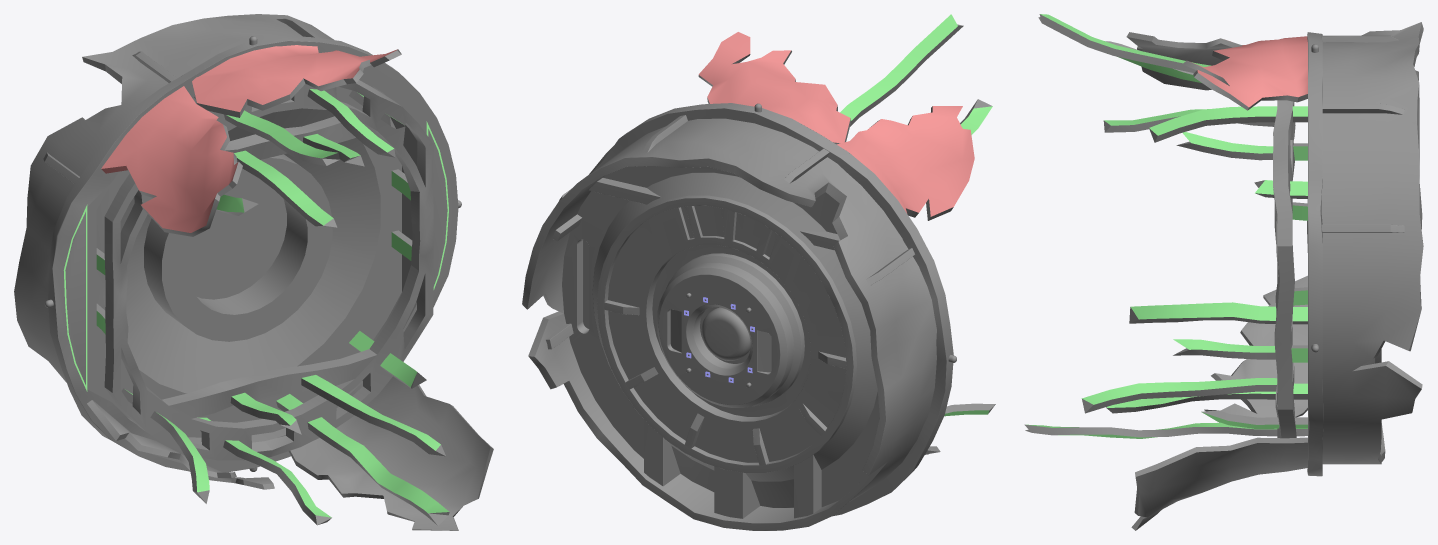
File: SM_DockingDamaged02.gltf
3 views of the same model, side by side, from view 1: azimuth 30°, elevation 25°; view 2: azimuth 150°, elevation 25°; view 3: azimuth 270°, elevation 25° (orthographic). The views are drawn at different scales.
Parts seen in each view (by area): view 1: SM_DockingDamaged02; view 2: SM_DockingDamaged02; view 3: SM_DockingDamaged02.
Boxes of the visible parts, left/top/right/bottom form: SM_DockingDamaged02: left=14, top=14, right=493, bottom=530; SM_DockingDamaged02: left=522, top=14, right=995, bottom=530; SM_DockingDamaged02: left=1024, top=14, right=1423, bottom=530.
Bounding box in the file's own units: 46.33 × 49.44 × 40.29.
